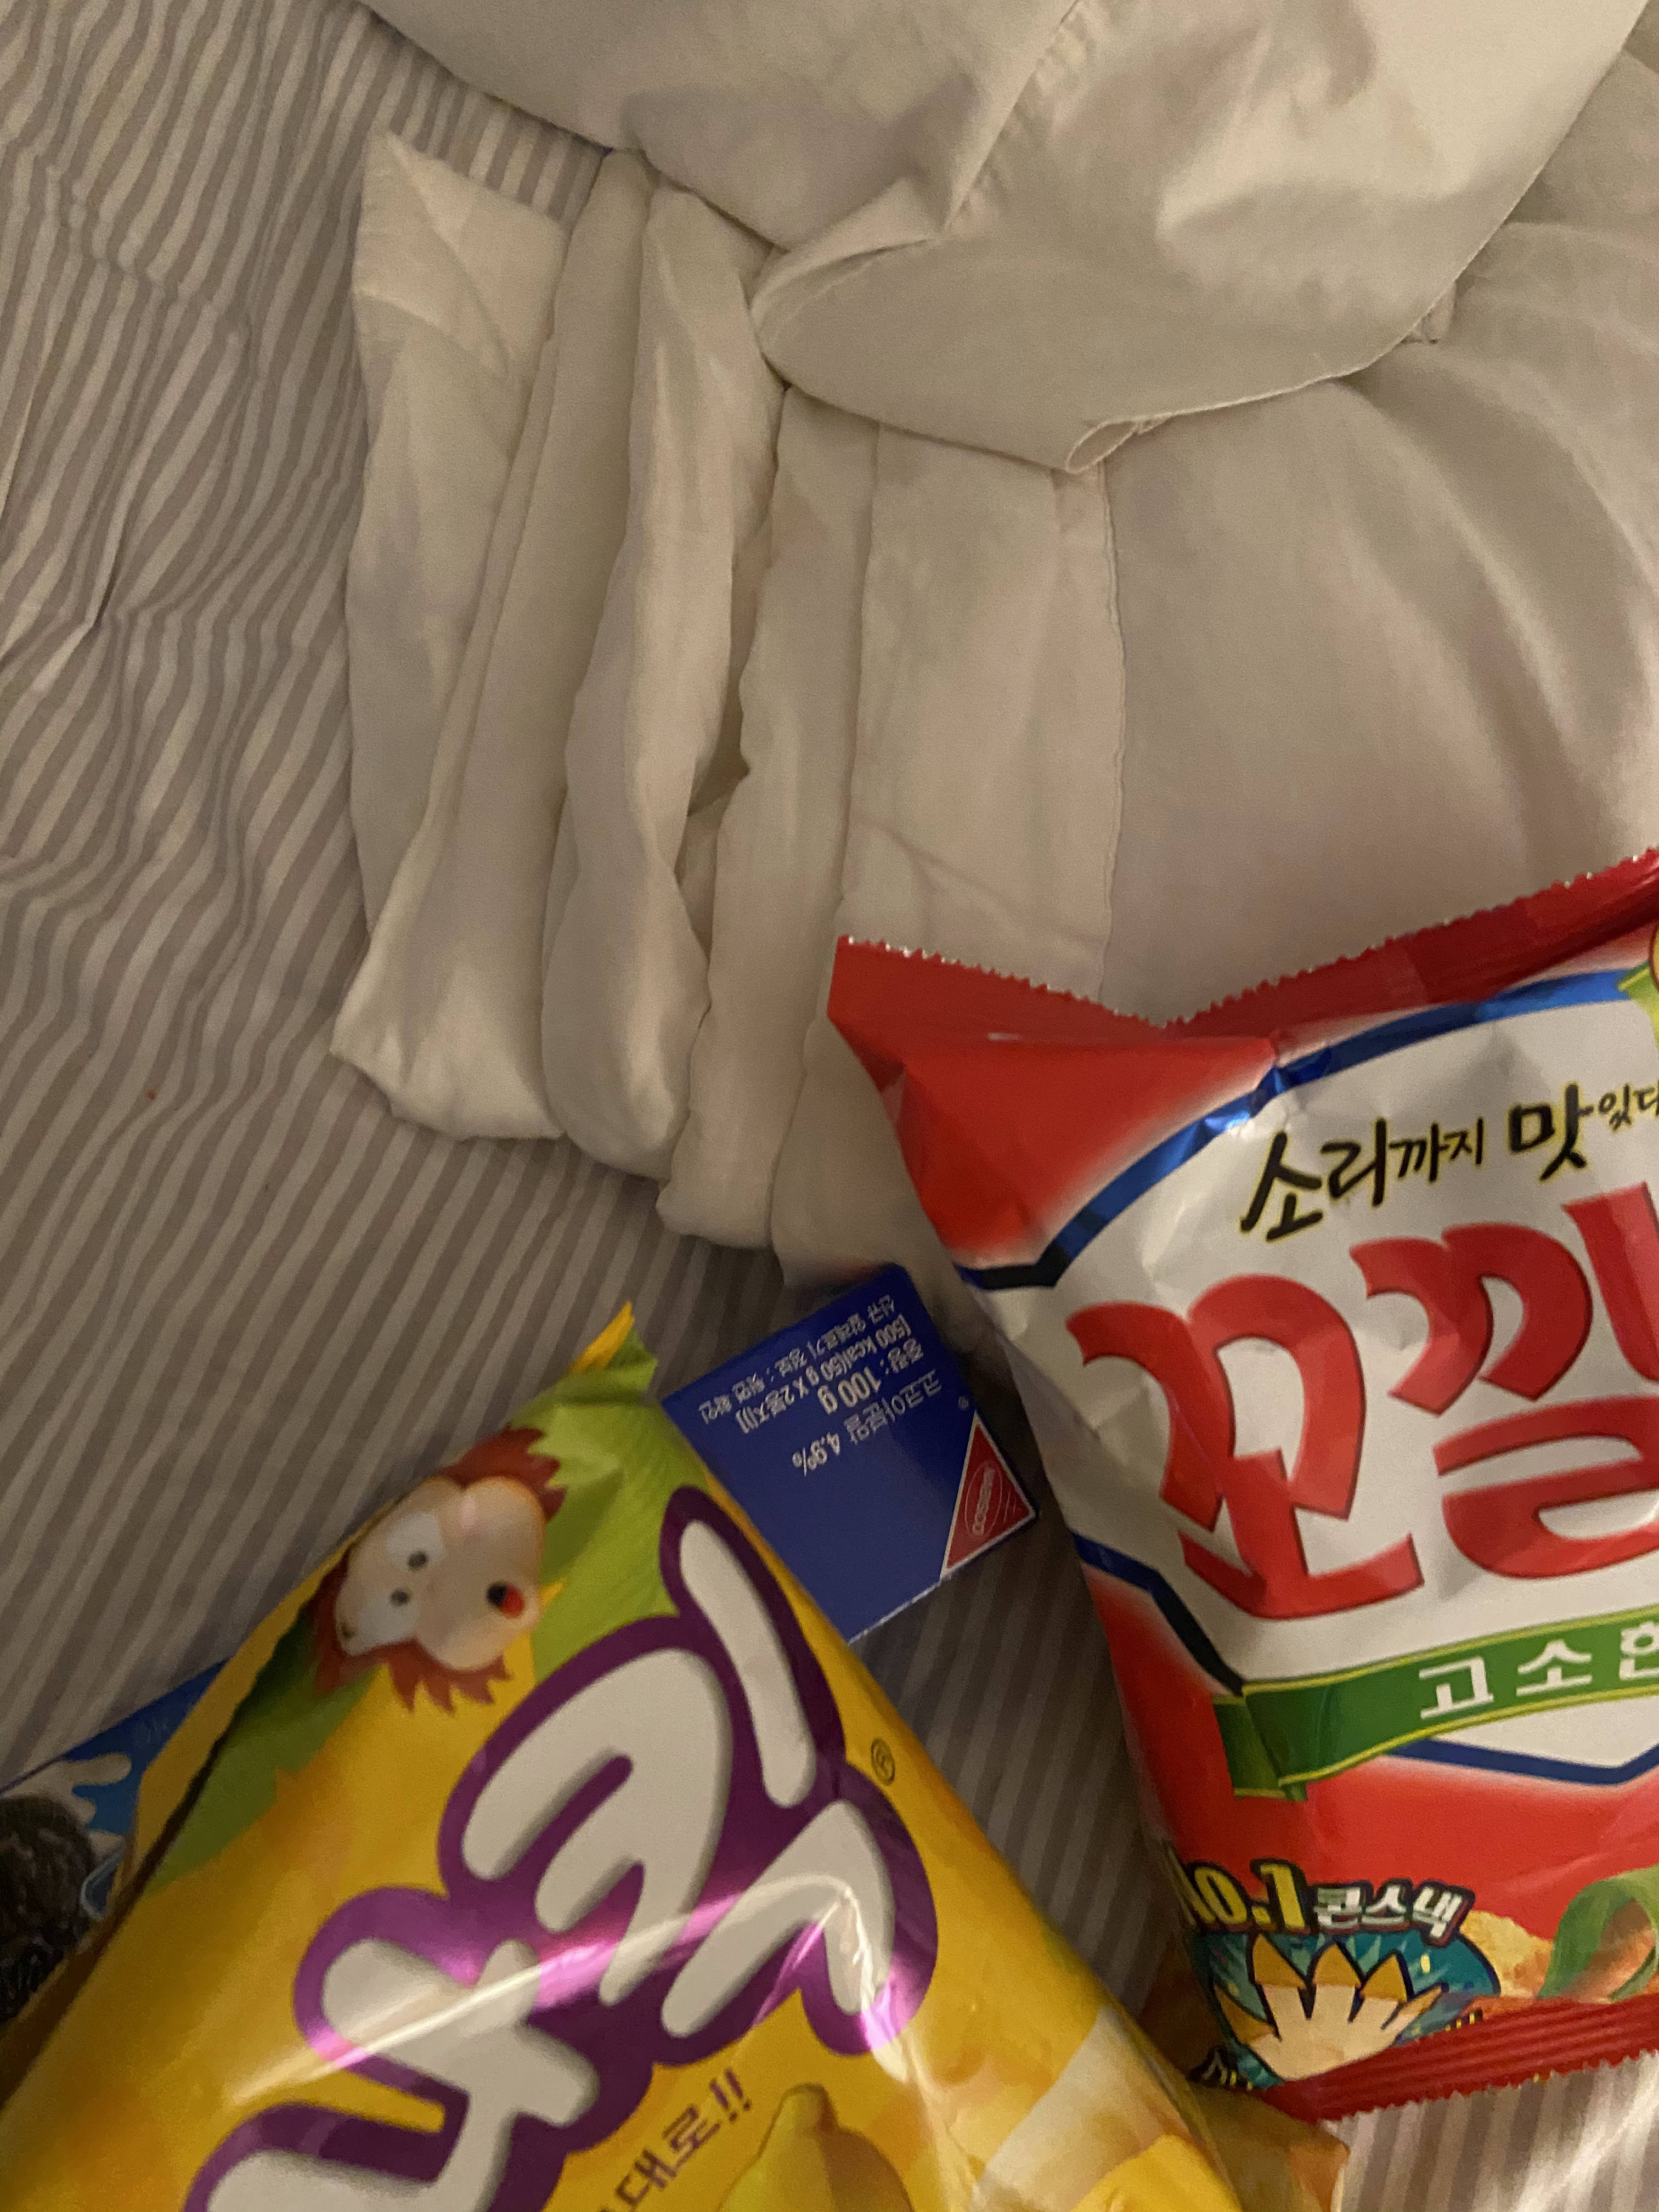banana: (7, 1291, 1371, 2207)
ggoggalcon: (826, 838, 1659, 2142)
